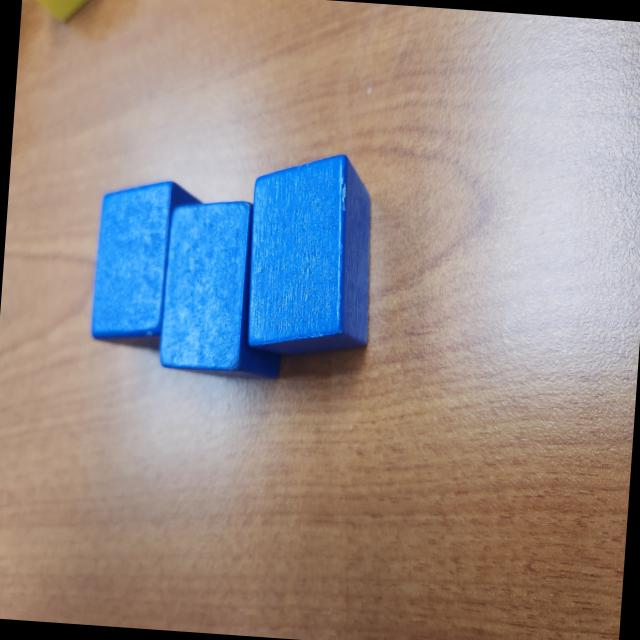blue: (242, 148, 381, 368), (156, 194, 291, 381), (88, 175, 206, 352)
yellow: (20, 0, 114, 26)
